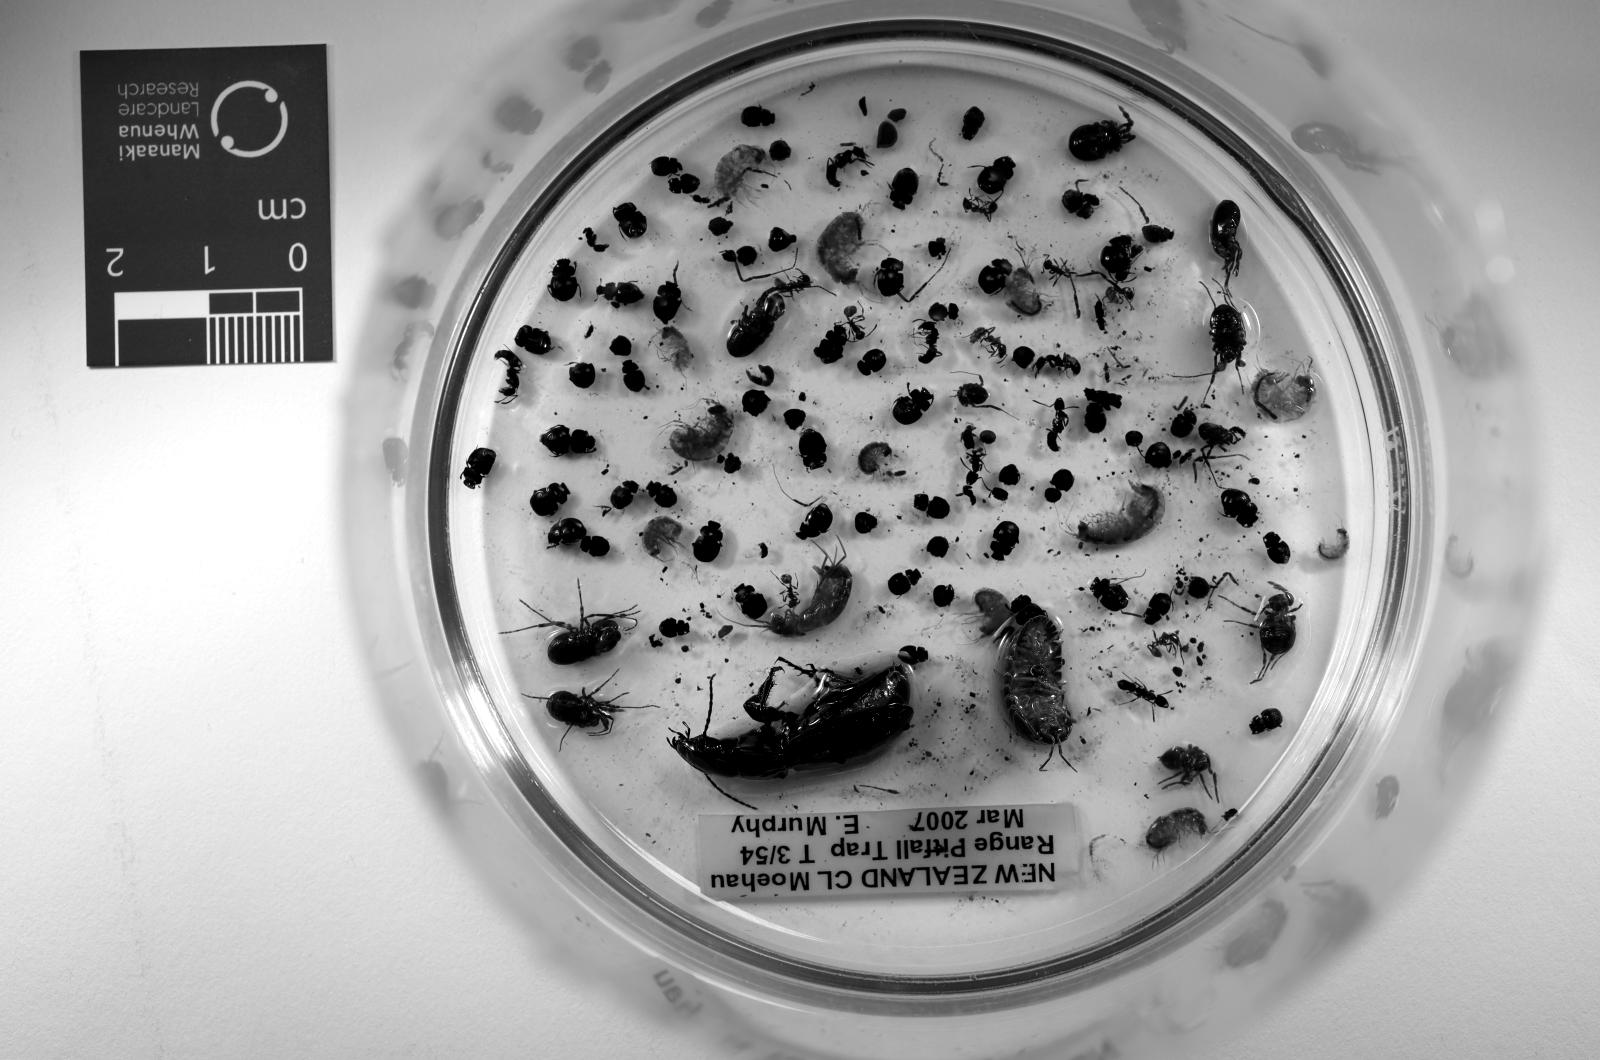amphipoda: (759, 543, 853, 637), (1069, 484, 1166, 547), (669, 401, 734, 463), (1250, 363, 1316, 422), (816, 211, 866, 286), (716, 146, 769, 199), (1147, 807, 1206, 854), (1003, 267, 1047, 317), (972, 587, 1012, 637), (653, 326, 694, 373), (641, 516, 681, 556), (856, 441, 891, 475), (1316, 528, 1350, 562)
araneae: (1159, 745, 1219, 801)
carabidae: (669, 661, 912, 779)
coleoptera: (1100, 236, 1141, 283), (541, 425, 597, 457), (978, 155, 1016, 196), (894, 388, 934, 425), (462, 447, 497, 488), (1222, 491, 1259, 528), (547, 258, 578, 301), (531, 481, 569, 516), (612, 202, 647, 239), (734, 584, 769, 621), (978, 258, 1012, 295), (797, 503, 831, 540), (1091, 578, 1128, 612), (653, 279, 681, 323), (547, 519, 588, 547), (816, 326, 847, 363), (597, 283, 644, 307), (891, 168, 919, 208), (694, 522, 722, 562), (991, 522, 1019, 562), (1044, 469, 1075, 503), (875, 258, 903, 295), (800, 429, 825, 469), (1062, 189, 1094, 220), (1262, 531, 1291, 565), (1141, 593, 1172, 624), (516, 326, 550, 354), (888, 568, 922, 596), (912, 494, 950, 519), (856, 348, 888, 376), (609, 481, 641, 509), (1169, 407, 1197, 438), (1250, 708, 1281, 736), (722, 245, 759, 267), (622, 360, 647, 391), (647, 481, 678, 506), (1084, 401, 1106, 435), (741, 106, 775, 127), (669, 172, 701, 194), (659, 618, 691, 640), (650, 155, 681, 177), (1141, 224, 1175, 242), (578, 537, 609, 556), (897, 646, 928, 665)
formicidae: (1116, 680, 1172, 720), (825, 146, 872, 189), (494, 348, 522, 404), (969, 326, 1006, 360), (1047, 398, 1069, 450), (1031, 354, 1081, 376), (919, 320, 941, 363), (962, 196, 997, 220), (1147, 634, 1181, 658), (775, 273, 812, 295), (1044, 258, 1075, 283), (844, 307, 866, 342), (966, 447, 984, 484), (1103, 283, 1134, 304)
isopoda: (1003, 612, 1075, 748)
opiliones: (503, 584, 638, 665), (528, 680, 650, 736), (1244, 584, 1300, 680), (728, 289, 784, 357), (1069, 106, 1134, 161), (1209, 304, 1247, 382), (1209, 199, 1241, 276), (956, 379, 1000, 410), (1197, 422, 1247, 447)
